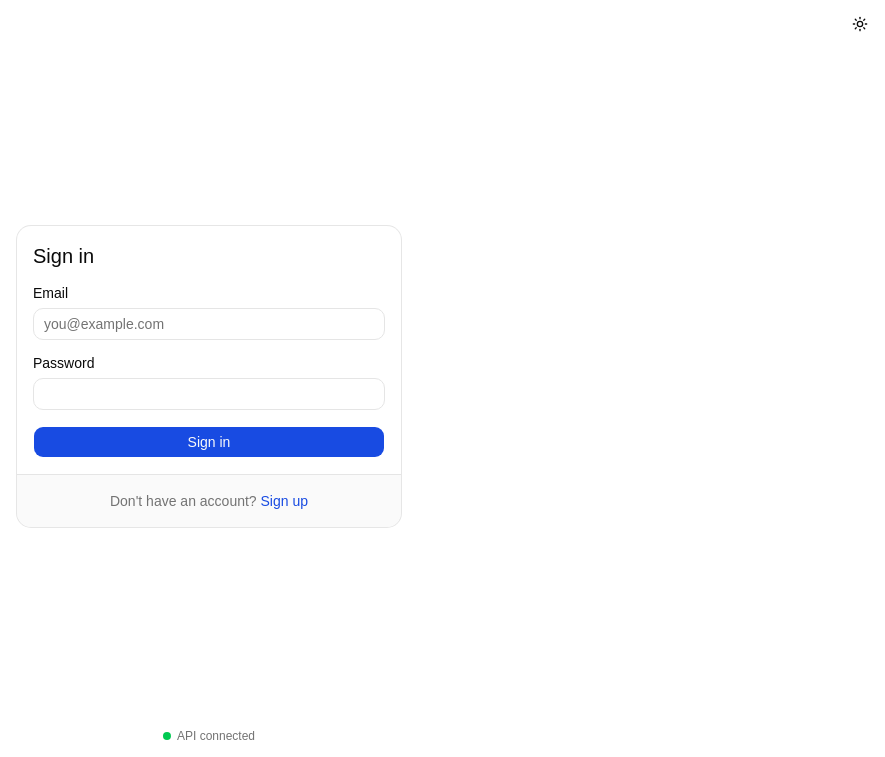
Test: Login page › shows validation error when form submitted empty
This screenshot has width=885, height=757.
Click the button "Sign in" at (209, 442), box x1=33 y1=426 x2=385 y2=458
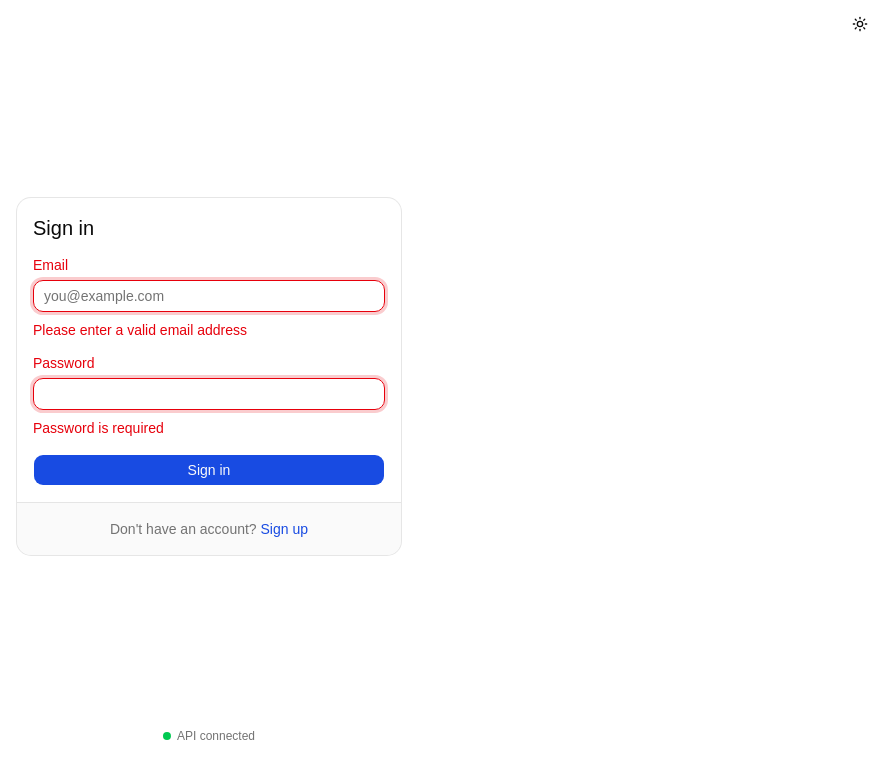
Result: the text "Please enter a valid email address" is shown at x1=33 y1=322 x2=247 y2=338
